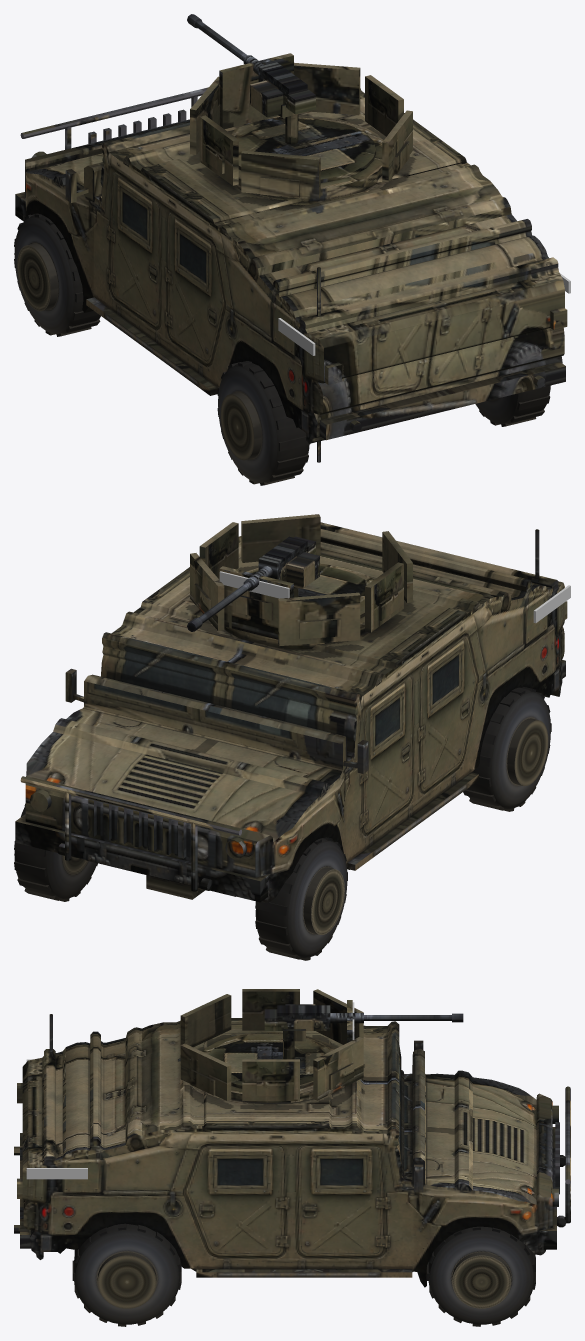
The model's file is hmmwv_50cal.glb.
3 renders of one model, top to bottom at view 1: azimuth 30°, elevation 25°; view 2: azimuth 150°, elevation 25°; view 3: azimuth 270°, elevation 25°, orthographic. The views are drawn at different scales.
Visible parts, largest first — view 1: Hull, Turret, WheelRL, WheelFL, Gun, WheelRR; view 2: Hull, Turret, WheelFL, WheelRL, WheelFR, Gun; view 3: Hull, Turret, WheelRR, WheelFR, Gun.
Part boxes in pixels (x1,y1,x2,y2): Hull: (15,87,570,462); Turret: (190,53,412,201); WheelRL: (217,361,309,485); WheelFL: (14,213,100,336); Gun: (187,14,315,117); WheelRR: (475,385,550,426); Hull: (15,522,570,902); Turret: (190,514,412,649); WheelFL: (255,837,347,960); WheelRL: (463,687,551,811); WheelFR: (14,803,97,901); Gun: (187,536,319,631); Hull: (14,1014,570,1287); Turret: (180,989,363,1103); WheelRR: (72,1223,181,1326); WheelFR: (427,1226,535,1326); Gun: (264,1004,463,1030).
Size of the model in its own units: 2.59 by 2.48 by 4.82.
Materials: 2 (1 with a texture image).
